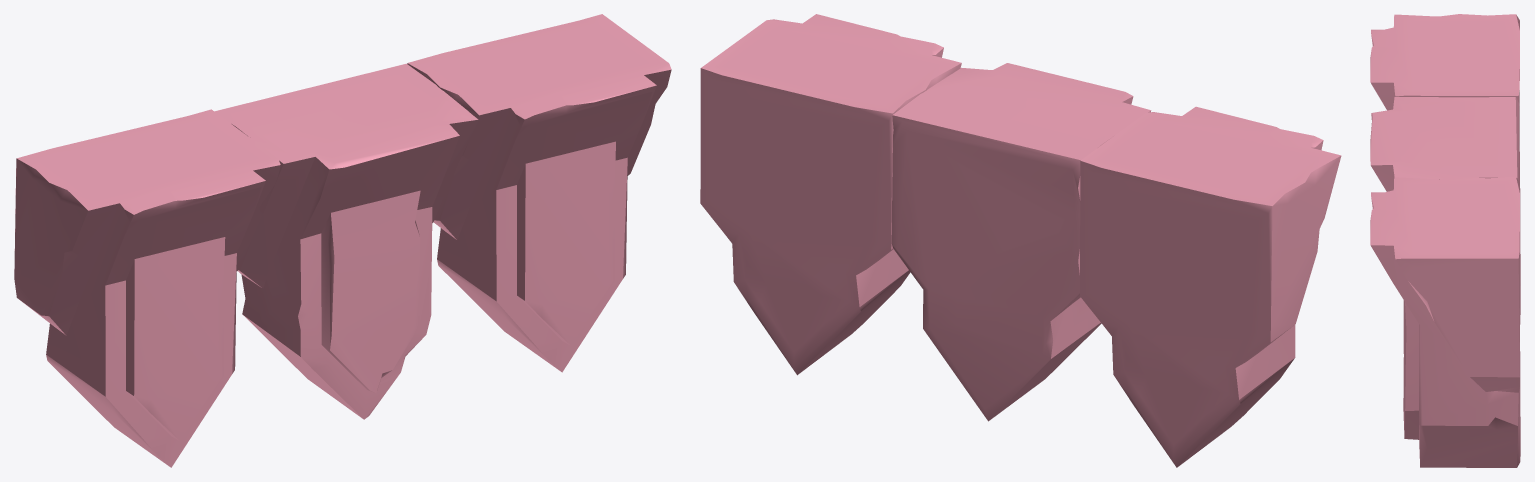
Rendered from stone_element_13_line_x3.fbx.
3 views of the same model, side by side, from view 1: azimuth 30°, elevation 25°; view 2: azimuth 150°, elevation 25°; view 3: azimuth 270°, elevation 25° (orthographic). The views are drawn at different scales.
Visible parts, largest first — view 1: stone_element_13_line_x3_LOD0; view 2: stone_element_13_line_x3_LOD0; view 3: stone_element_13_line_x3_LOD0.
Part boxes in pixels (bbox=[...]): stone_element_13_line_x3_LOD0: bbox=[14, 14, 671, 467]; stone_element_13_line_x3_LOD0: bbox=[700, 14, 1341, 467]; stone_element_13_line_x3_LOD0: bbox=[1370, 14, 1520, 467].
Size of the model in its own units: 278 by 132 by 72.19.
